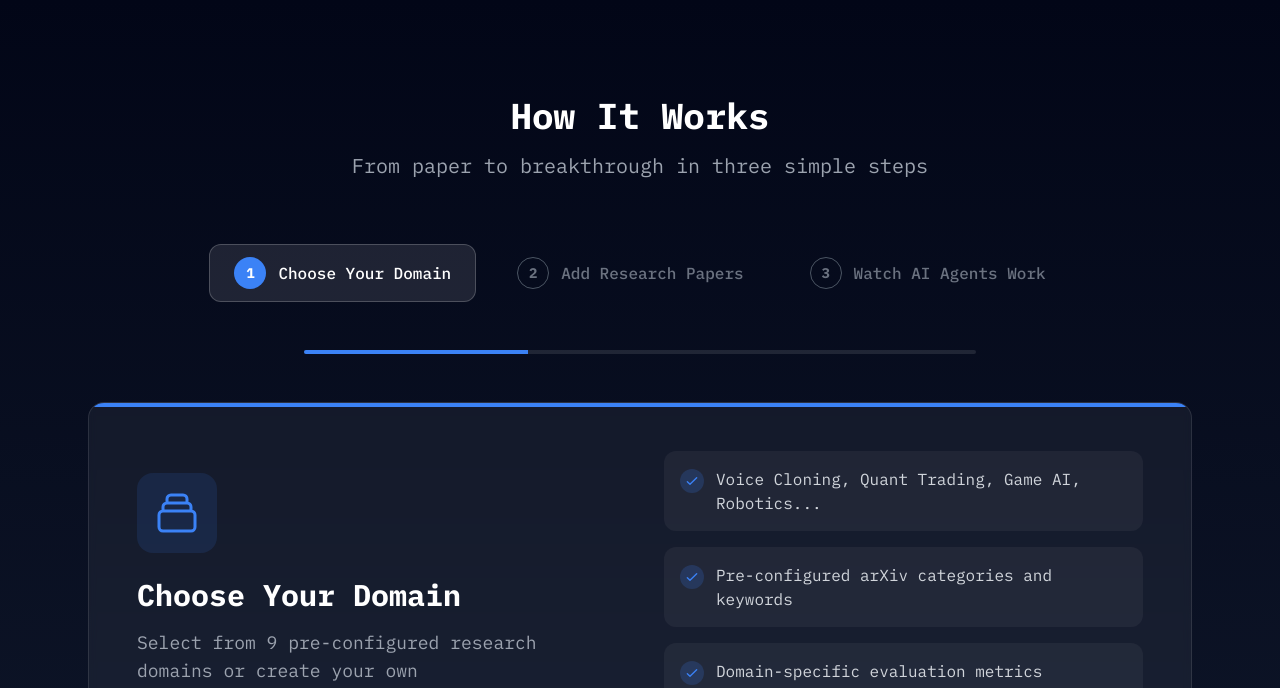
Test case: HowItWorks › Navigation › should switch to step 2 when clicked
Click the text "2" at (533, 273), box [517,257,549,289]
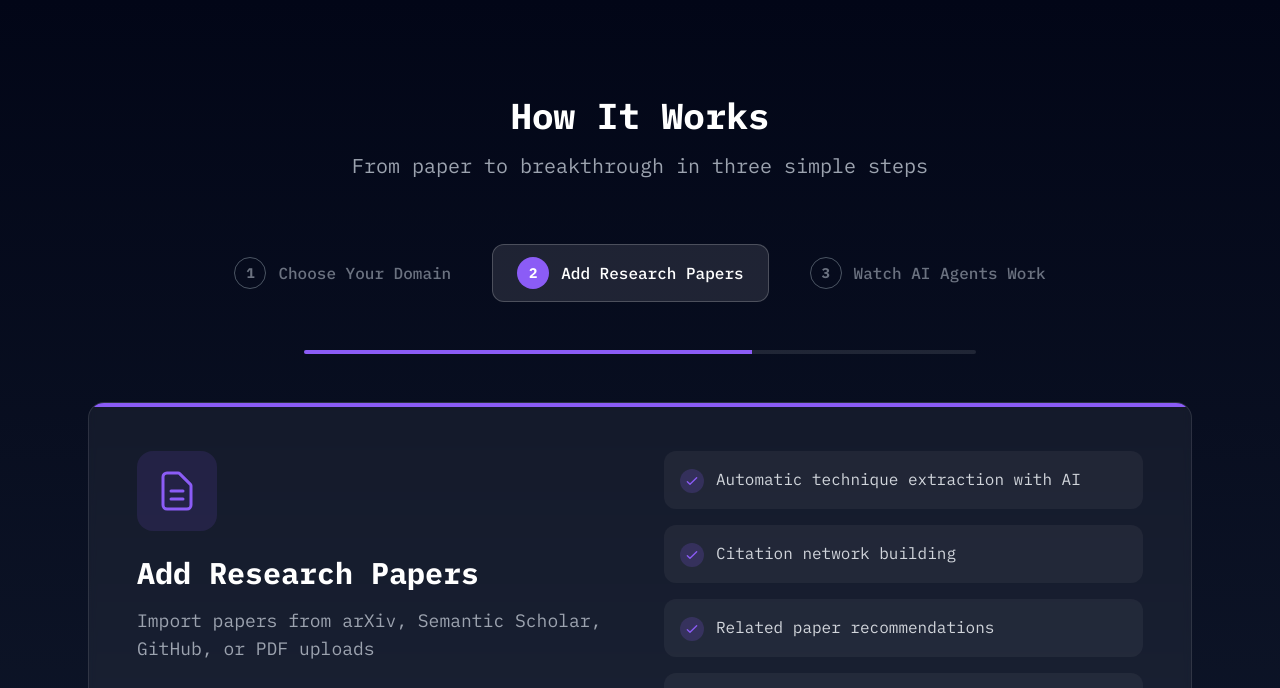
Now the text "Import papers from arXiv" is shown, box [137,609,601,660]
